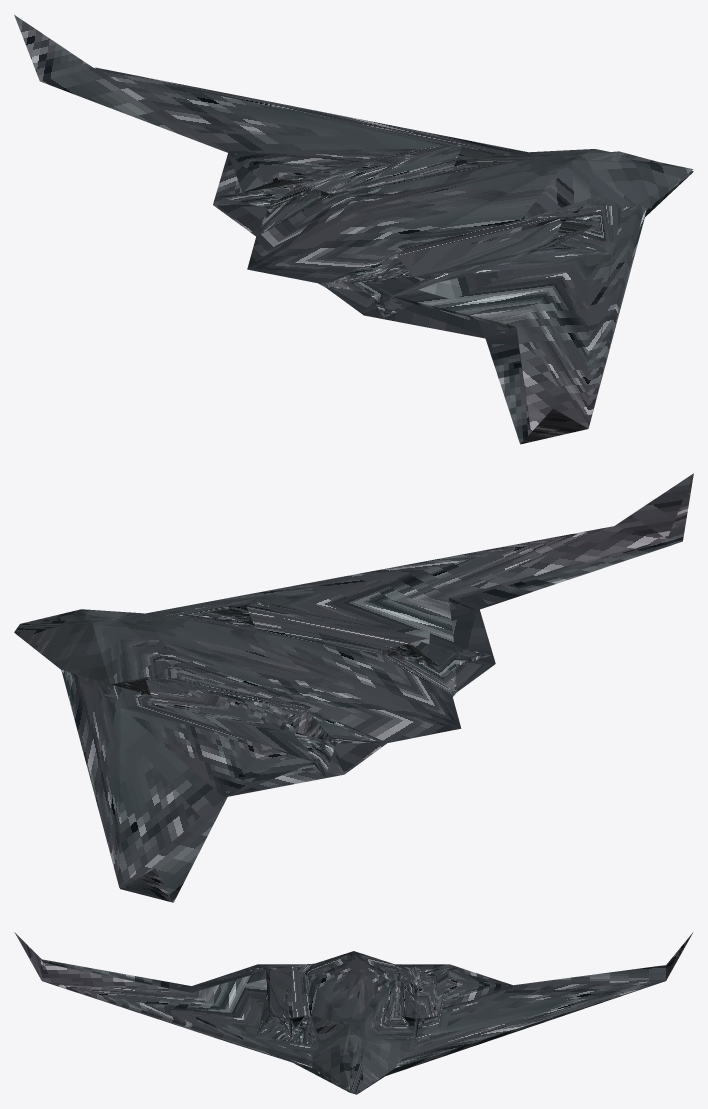
3 renders of one model, top to bottom at view 1: azimuth 30°, elevation 25°; view 2: azimuth 150°, elevation 25°; view 3: azimuth 270°, elevation 25°, orthographic. The views are drawn at different scales.
Parts seen in each view (by area): view 1: Object_4; view 2: Object_4; view 3: Object_4.
Boxes of the visible parts, x1,y1,x2,y2 form: Object_4: [14, 14, 693, 444]; Object_4: [14, 473, 693, 902]; Object_4: [14, 932, 692, 1094].
Size of the model in its own units: 4.93 by 0.904 by 10.36.
Materials: 1 (1 with a texture image).
